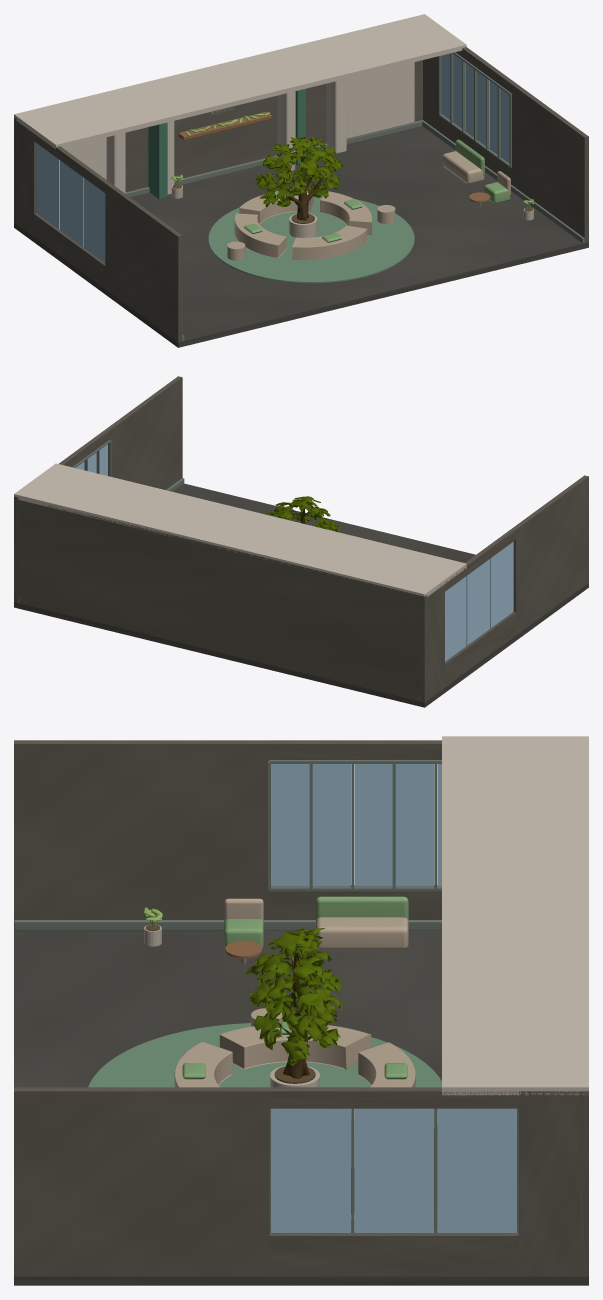
File: student-hall.glb
3 renders of one model, top to bottom at view 1: azimuth 30°, elevation 25°; view 2: azimuth 150°, elevation 25°; view 3: azimuth 270°, elevation 25°, orthographic. The views are drawn at different scales.
Parts seen in each view (by area): view 1: Floor, CeilingBack, BackWall, LeftWallFront, RightWallFront, RoundRug, OriginalCenterTree, ClubBoard, LeftWallBack, LeftWallWindowBase, LeftLobbyWindow_1, LeftLobbyWindow_2 (+24 smaller); view 2: BackWall, CeilingBack, LeftWallFront, Floor, RightWallFront, LeftWallBack, LeftWallWindowBase, LeftLobbyWindow_0, LeftLobbyWindow_1, LeftLobbyWindow_2, OriginalCenterTree, LeftWallWindowHeader (+2 smaller); view 3: CeilingBack, RightWallFront, Floor, LeftWallFront, RightWallBack, RightWallWindowBase, RightLobbyWindow_0, RightLobbyWindow_1, RightLobbyWindow_2, LeftLobbyWindow_0, LeftLobbyWindow_1, OriginalCenterTree (+14 smaller).
Boxes of the visible parts, x1,y1,x2,y2 form: Floor: [14, 126, 588, 347]; CeilingBack: [14, 14, 466, 149]; BackWall: [14, 60, 422, 223]; LeftWallFront: [105, 182, 182, 342]; RightWallFront: [511, 83, 588, 243]; RoundRug: [208, 195, 414, 283]; OriginalCenterTree: [255, 136, 343, 220]; ClubBoard: [346, 62, 414, 139]; LeftWallBack: [16, 121, 36, 236]; LeftWallWindowBase: [34, 213, 105, 288]; LeftLobbyWindow_1: [60, 160, 83, 246]; LeftLobbyWindow_2: [36, 143, 59, 229]; BackWall: [18, 500, 427, 702]; CeilingBack: [14, 463, 466, 596]; LeftWallFront: [512, 475, 588, 635]; Floor: [14, 483, 588, 707]; RightWallFront: [105, 376, 182, 489]; LeftWallBack: [420, 582, 444, 701]; LeftWallWindowBase: [445, 612, 515, 687]; LeftLobbyWindow_0: [490, 542, 513, 628]; LeftLobbyWindow_1: [466, 559, 489, 645]; LeftLobbyWindow_2: [445, 576, 466, 661]; OriginalCenterTree: [264, 496, 341, 532]; LeftWallWindowHeader: [445, 529, 515, 591]; CeilingBack: [442, 736, 588, 1095]; RightWallFront: [14, 1087, 269, 1276]; Floor: [14, 930, 588, 1285]; LeftWallFront: [14, 740, 269, 919]; RightWallBack: [518, 1091, 588, 1276]; RightWallWindowBase: [269, 1233, 518, 1276]; RightLobbyWindow_0: [271, 1108, 350, 1232]; RightLobbyWindow_1: [354, 1108, 433, 1232]; RightLobbyWindow_2: [437, 1108, 516, 1232]; LeftLobbyWindow_0: [271, 764, 350, 886]; LeftLobbyWindow_1: [354, 764, 433, 886]; OriginalCenterTree: [245, 928, 343, 1078].
Bounding box in the file's own units: 26 × 6.86 × 18.
17 materials, 3 textured.
